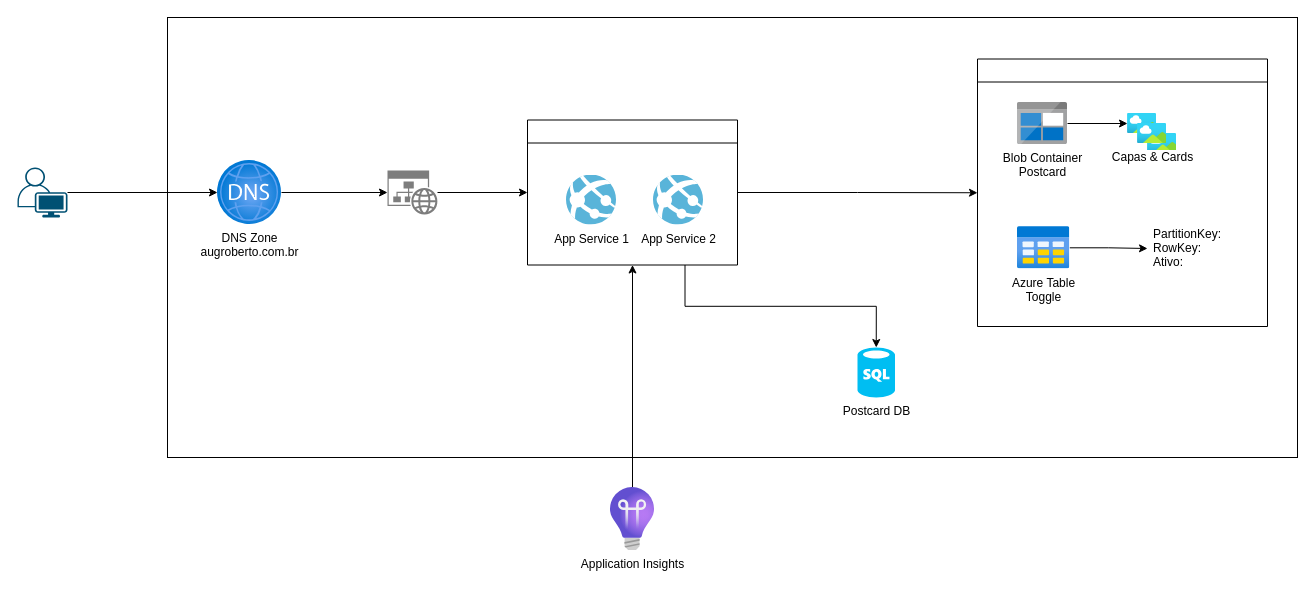
Image size: 1315x589. Some labels were removed from this diagram. Here are the shapes that lost their labels. From the top down, the box of each, then its label:
(17, 167, 67, 217): Usuário
(387, 170, 437, 214): Postcard
(526, 119, 738, 265): App Service Plan
(976, 58, 1268, 326): Storage Account
